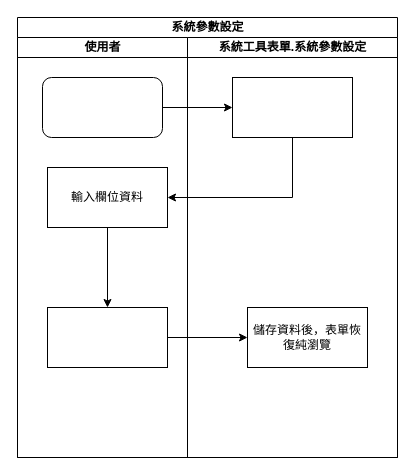
The diagram is 415 pixels wide and 475 high, and some of its shapes have lost their labels. The shapes that lost their labels are listed below. From the top down, each one's centre as x and y in pixels, then its label:
At pixel 102 107: "點擊系統功能鍵.進入編輯".
At pixel 292 107: "表單欄位變成可編輯".
At pixel 107 337: "點擊系統功能鍵.存回".
